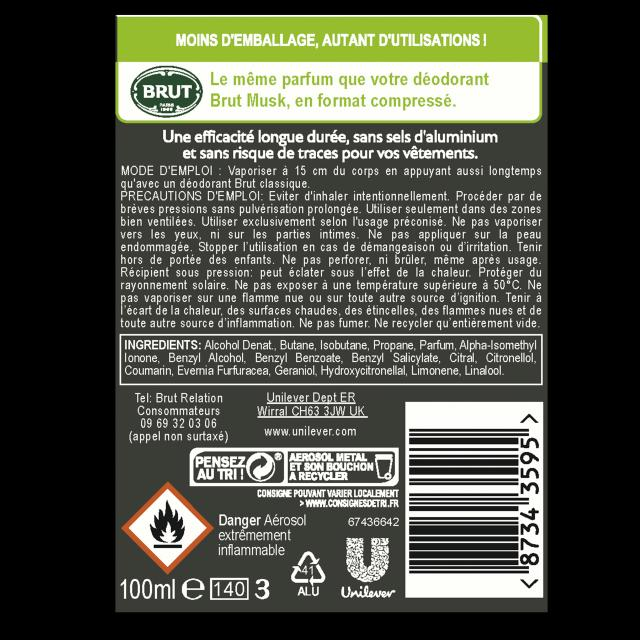GHS_Symbol_FLAME: (122, 482, 215, 575)
